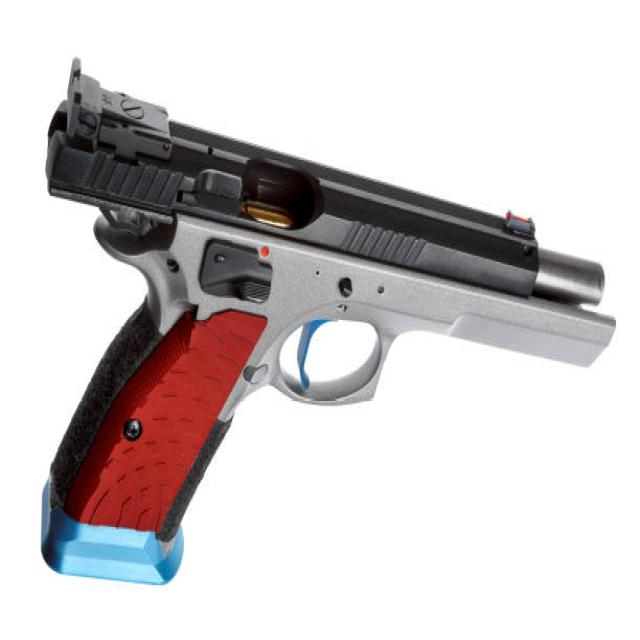pistol: (33, 52, 628, 598)
